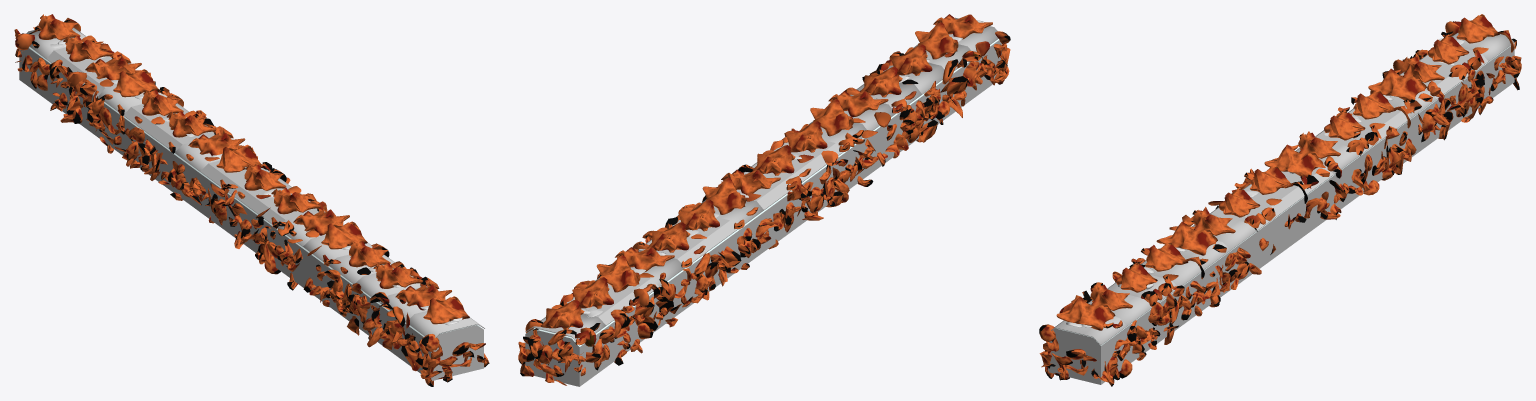
File: PaslıParticlelıPlatform.fbx
3 renders of one model, left to right at view 1: azimuth 30°, elevation 25°; view 2: azimuth 150°, elevation 25°; view 3: azimuth 330°, elevation 25°, orthographic. The views are drawn at different scales.
Parts seen in each view (by area): view 1: Cube.005, Cube.604, Sphere.020, Cube.608, Sphere.035, Sphere.023, Sphere.021, Cube.606, Cube.609, Sphere.022, Sphere.032, Cube.612 (+5 smaller); view 2: Cube.005, Cube.604, Cube.611, Sphere.035, Sphere.021, Cube.609, Cube.608, Sphere.025, Sphere.023, Cube.605, Sphere.022, Cube.612 (+5 smaller); view 3: Cube.005, Sphere.020, Sphere.023, Sphere.035, Cube.604, Cube.605, Sphere.032, Cube.609, Cube.611, Sphere.024, Cube.606, Cube.608 (+5 smaller).
Boxes of the visible parts, x1=… form: Cube.005: x1=15, y1=25, x2=489, y2=386; Cube.604: x1=251, y1=186, x2=327, y2=228; Sphere.020: x1=406, y1=296, x2=484, y2=337; Cube.608: x1=149, y1=111, x2=233, y2=153; Sphere.035: x1=14, y1=14, x2=86, y2=58; Sphere.023: x1=324, y1=241, x2=406, y2=283; Sphere.021: x1=370, y1=284, x2=451, y2=326; Cube.606: x1=200, y1=144, x2=272, y2=186; Cube.609: x1=123, y1=90, x2=198, y2=133; Sphere.022: x1=356, y1=262, x2=439, y2=303; Sphere.032: x1=98, y1=69, x2=169, y2=116; Cube.612: x1=46, y1=35, x2=121, y2=72; Cube.005: x1=518, y1=31, x2=1010, y2=386; Cube.604: x1=763, y1=121, x2=849, y2=171; Cube.611: x1=574, y1=255, x2=658, y2=307; Sphere.035: x1=525, y1=299, x2=606, y2=346; Sphere.021: x1=913, y1=22, x2=981, y2=84; Cube.609: x1=632, y1=222, x2=711, y2=267; Cube.608: x1=665, y1=199, x2=744, y2=248; Sphere.025: x1=799, y1=99, x2=877, y2=152; Sphere.023: x1=845, y1=66, x2=921, y2=113; Cube.605: x1=738, y1=145, x2=816, y2=190; Sphere.022: x1=875, y1=44, x2=944, y2=94; Cube.612: x1=552, y1=277, x2=632, y2=325; Cube.005: x1=1039, y1=38, x2=1521, y2=386; Sphere.020: x1=1051, y1=297, x2=1126, y2=345; Sphere.023: x1=1129, y1=242, x2=1204, y2=289; Sphere.035: x1=1441, y1=14, x2=1514, y2=61; Cube.604: x1=1198, y1=187, x2=1282, y2=231; Cube.605: x1=1234, y1=165, x2=1311, y2=212; Sphere.032: x1=1351, y1=68, x2=1436, y2=118; Cube.609: x1=1336, y1=90, x2=1410, y2=136; Cube.611: x1=1393, y1=56, x2=1466, y2=102; Sphere.024: x1=1145, y1=221, x2=1230, y2=268; Cube.606: x1=1264, y1=144, x2=1333, y2=193; Cube.608: x1=1300, y1=110, x2=1385, y2=155.
Size of the model in its own units: 0.5087 by 0.4592 by 4.47.
